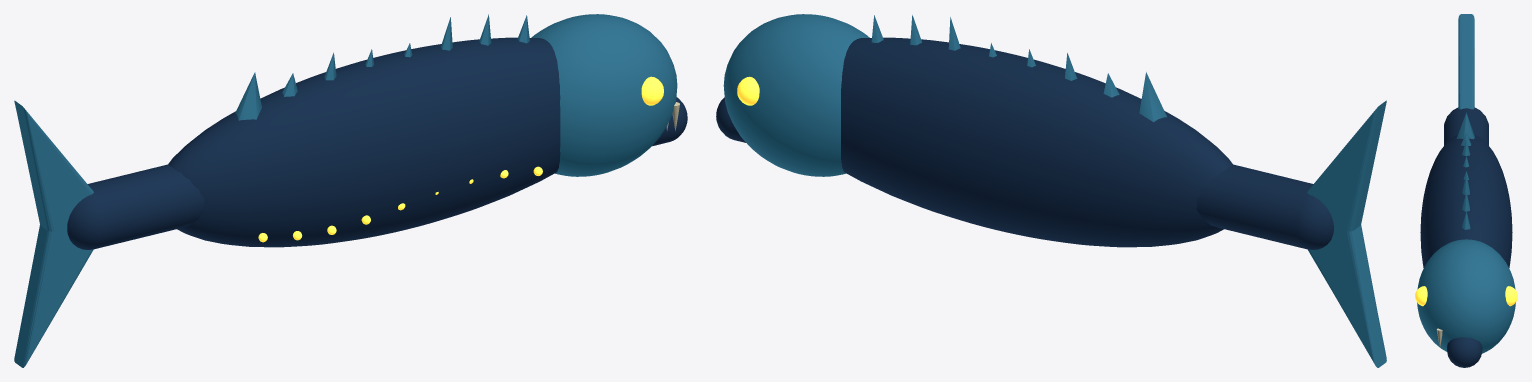
File: leviathan.glb
3 views of the same model, side by side, from view 1: azimuth 30°, elevation 25°; view 2: azimuth 150°, elevation 25°; view 3: azimuth 270°, elevation 25° (orthographic). The views are drawn at different scales.
Parts seen in each view (by area): view 1: body, armored_head, tail_fin, tail_stem, dorsal_spine, lower_jaw; view 2: body, armored_head, tail_fin, tail_stem, dorsal_spine, lower_jaw; view 3: armored_head, body, tail_fin, tail_stem, lower_jaw, dorsal_spine (×4), monster_eye (×2).
Boxes of the visible parts, x1,y1,x2,y2 form: body: (168,37,560,247); armored_head: (531,14,677,176); tail_fin: (14,100,93,367); tail_stem: (67,164,204,249); dorsal_spine: (235,72,261,120); lower_jaw: (652,97,687,146); body: (841,37,1232,247); armored_head: (723,14,869,176); tail_fin: (1307,100,1386,367); tail_stem: (1196,164,1333,249); dorsal_spine: (1139,72,1166,122); lower_jaw: (716,97,745,142); armored_head: (1417,239,1515,353); body: (1420,134,1512,267); tail_fin: (1458,14,1474,109); tail_stem: (1444,107,1488,145); lower_jaw: (1447,337,1482,367); dorsal_spine (×4): (1456,112,1474,229); monster_eye (×2): (1415,286,1517,306).
Size of the model in its own units: 14.49 by 5.46 by 2.79.
